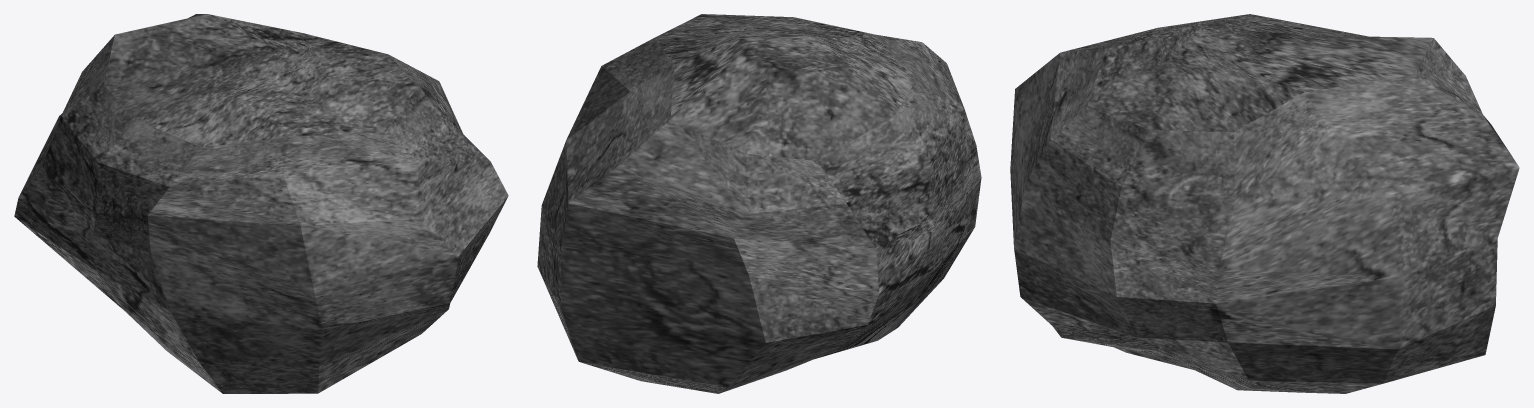
Rendered from Meteoriet1.fbx.
3 renders of one model, left to right at view 1: azimuth 30°, elevation 25°; view 2: azimuth 150°, elevation 25°; view 3: azimuth 270°, elevation 25°, orthographic. The views are drawn at different scales.
Visible parts, largest first — view 1: Sphere.001; view 2: Sphere.001; view 3: Sphere.001.
Boxes of the visible parts, box(x1,y1,x2,y2) form: Sphere.001: box(14, 14, 508, 393); Sphere.001: box(537, 14, 981, 393); Sphere.001: box(1010, 14, 1519, 393).
Bounding box in the file's own units: 343 × 258 × 364.
